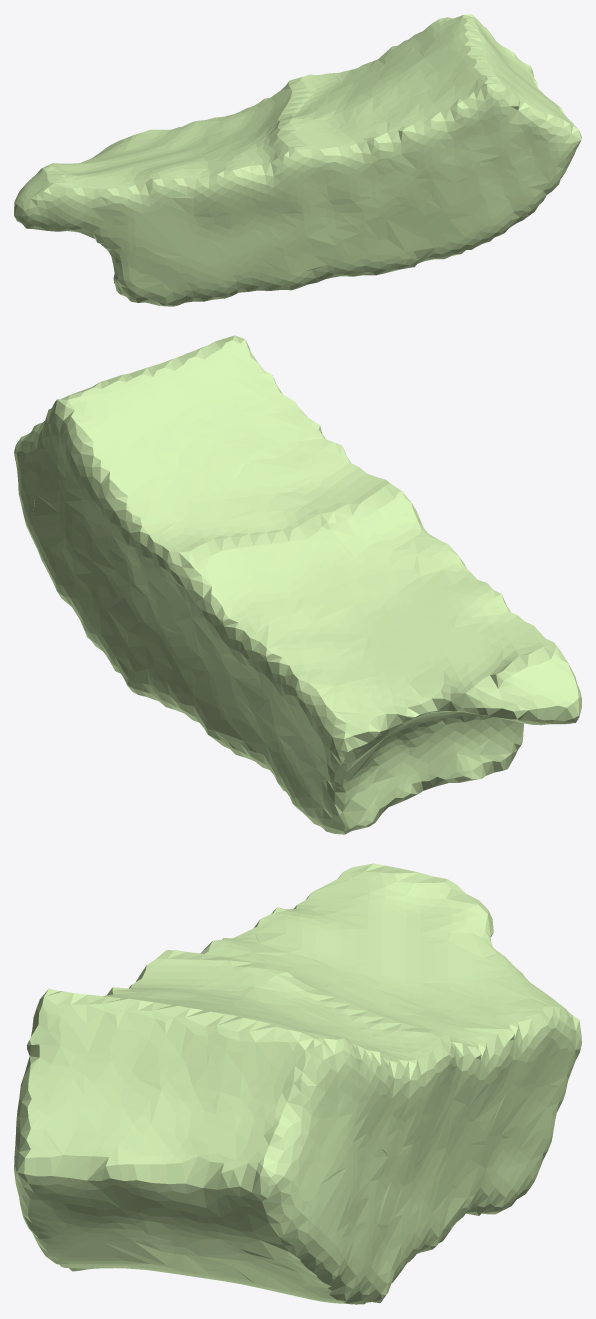
Rendered from Model_10145_LH__Visual_area_3A_(dorsoanterior_area)_(V3A).obj.
The picture shows the model from 3 angles, top to bottom: view 1: azimuth 30°, elevation 25°; view 2: azimuth 150°, elevation 25°; view 3: azimuth 270°, elevation 25°; orthographic projection. The views are drawn at different scales.
Size of the model in its own units: 5.55 by 2.52 by 3.44.
